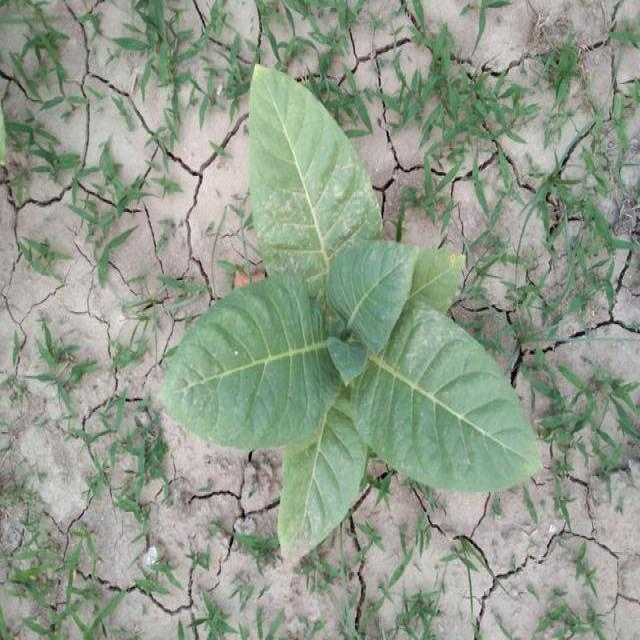crop: (161, 86, 528, 554)
